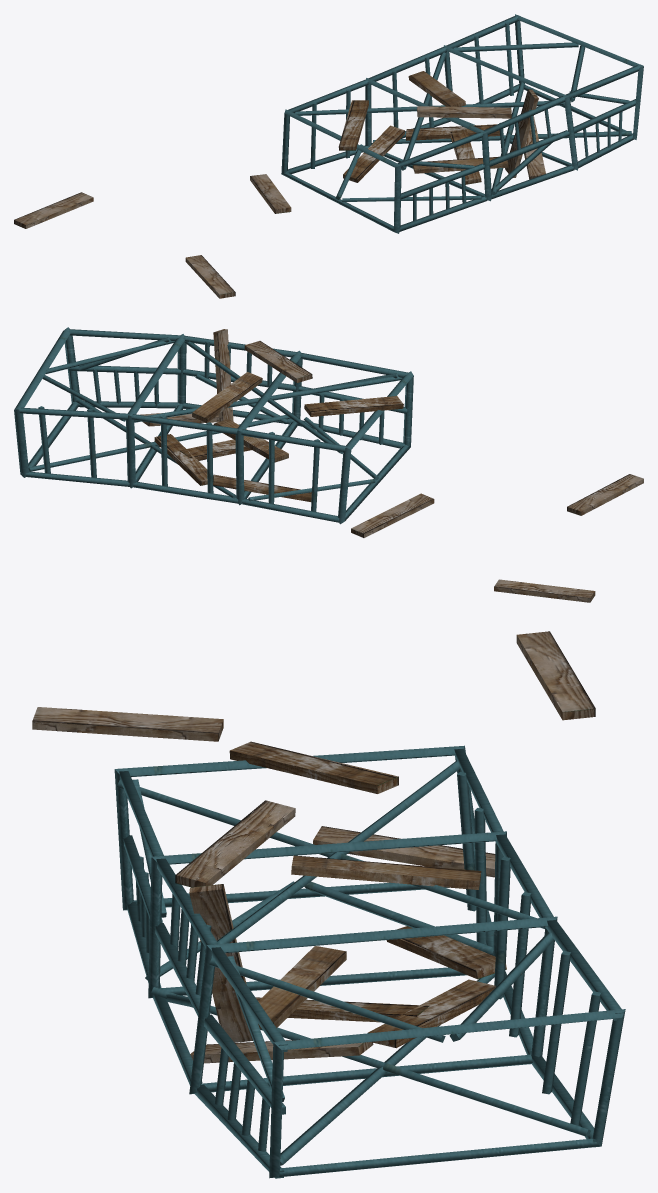
The model's file is Shelves_big03_broken.FBX.
3 views of the same model, one above another, from view 1: azimuth 30°, elevation 25°; view 2: azimuth 150°, elevation 25°; view 3: azimuth 270°, elevation 25° (orthographic). The views are drawn at different scales.
Visible parts, largest first — view 1: Shelves_big03_broken; view 2: Shelves_big03_broken; view 3: Shelves_big03_broken.
Part boxes in pixels (x1,y1,x2,y2): Shelves_big03_broken: (14,14,643,298); Shelves_big03_broken: (14,327,643,602); Shelves_big03_broken: (32,631,625,1178).
Size of the model in its own units: 360 by 56.3 by 164.
